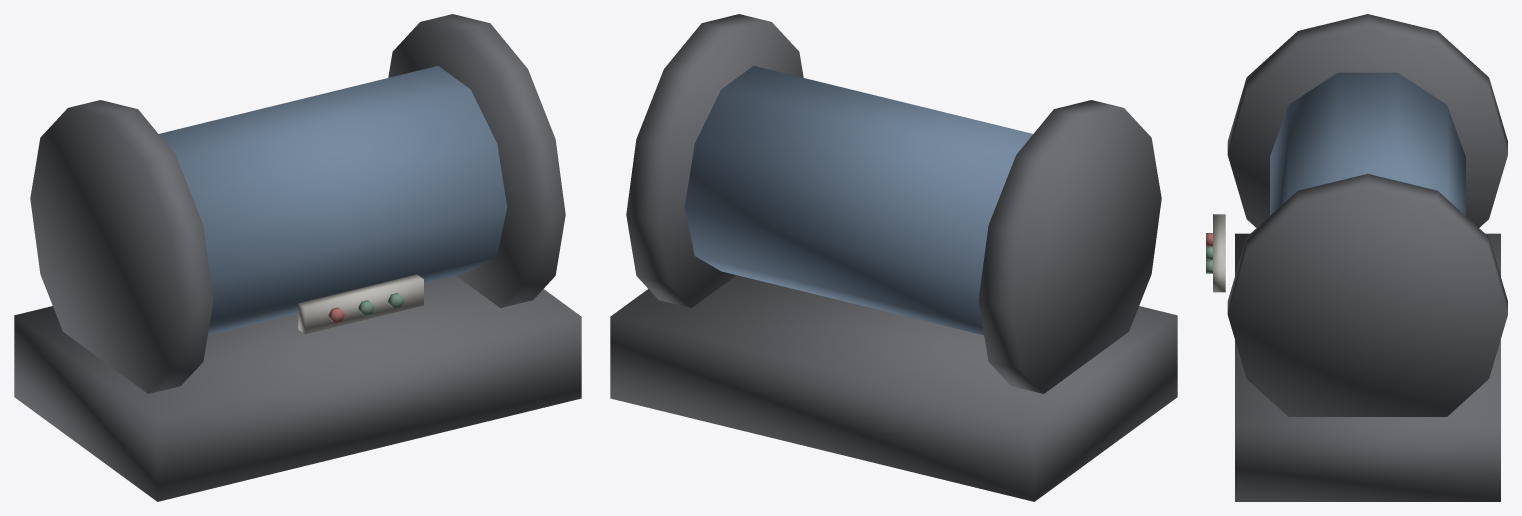
Rendered from bench_grinder.glb.
The picture shows the model from 3 angles, left to right: view 1: azimuth 30°, elevation 25°; view 2: azimuth 150°, elevation 25°; view 3: azimuth 270°, elevation 25°; orthographic projection. The views are drawn at different scales.
Visible parts, largest first — view 1: world; view 2: world; view 3: world.
Part boxes in pixels (bbox=[...]): world: bbox=[14, 14, 581, 501]; world: bbox=[610, 14, 1177, 501]; world: bbox=[1206, 14, 1507, 501].
Bounding box in the file's own units: 0.65 × 0.48 × 0.431.
